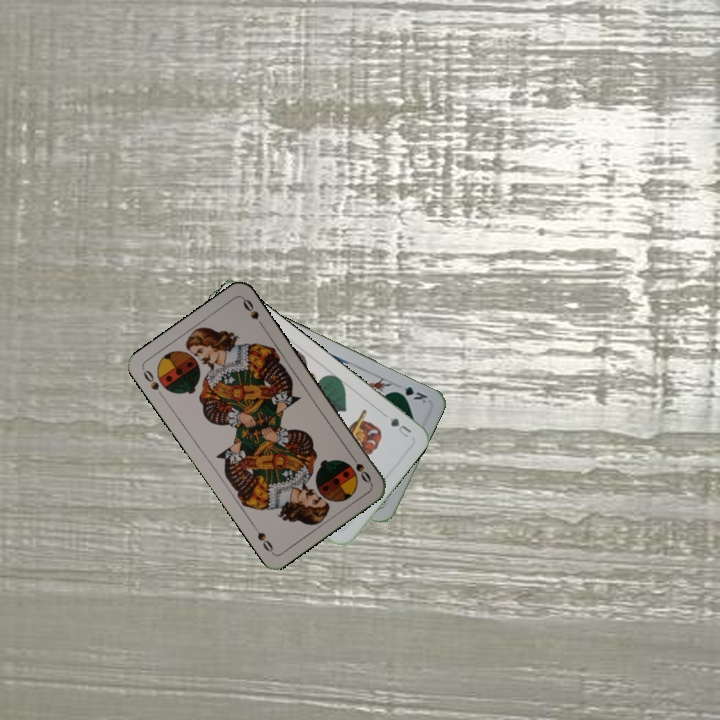GK: (391, 382, 430, 406)
GU: (386, 413, 414, 440)
SO: (346, 450, 374, 486), (139, 366, 166, 401)
